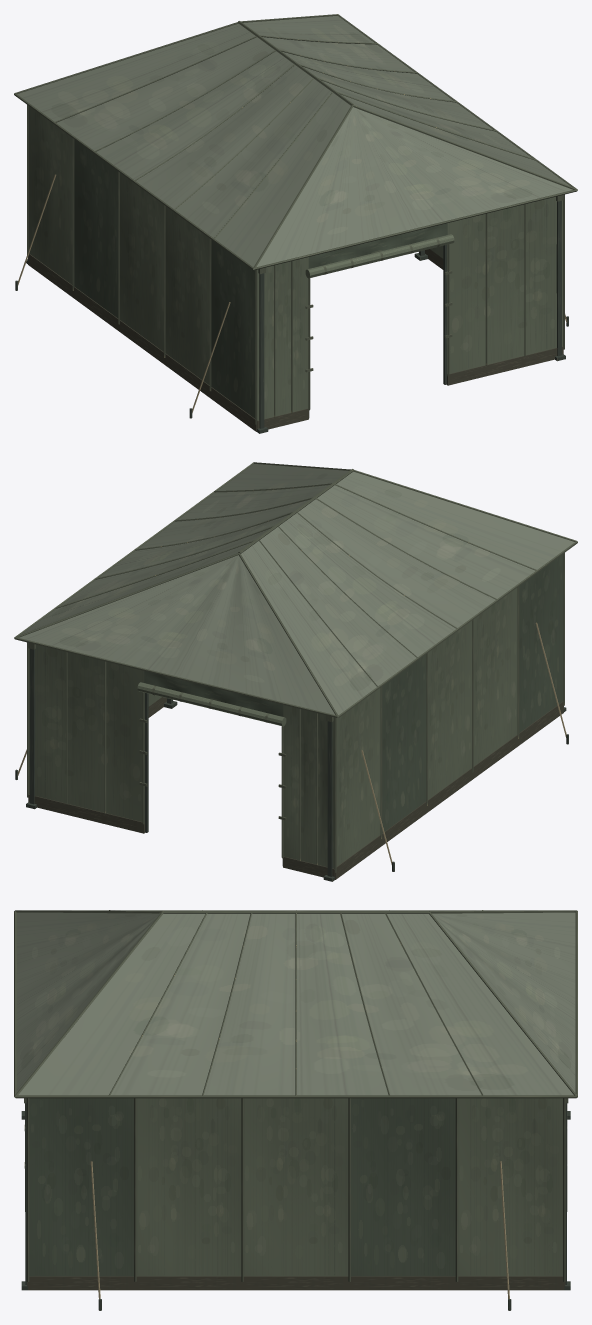
Rendered from MetalSteezy_TenteSas.fbx.
The picture shows the model from 3 angles, top to bottom: view 1: azimuth 30°, elevation 25°; view 2: azimuth 150°, elevation 25°; view 3: azimuth 270°, elevation 25°; orthographic projection. The views are drawn at different scales.
Parts seen in each view (by area): view 1: MetalSteezy_TenteSas; view 2: MetalSteezy_TenteSas; view 3: MetalSteezy_TenteSas.
Part boxes in pixels (x1,y1,x2,y2): MetalSteezy_TenteSas: (14, 14, 577, 433); MetalSteezy_TenteSas: (14, 462, 577, 881); MetalSteezy_TenteSas: (14, 910, 577, 1310).
Size of what is drawn, in the model's own units: 9.87 by 10.83 by 6.18.
1 material, 1 textured.
